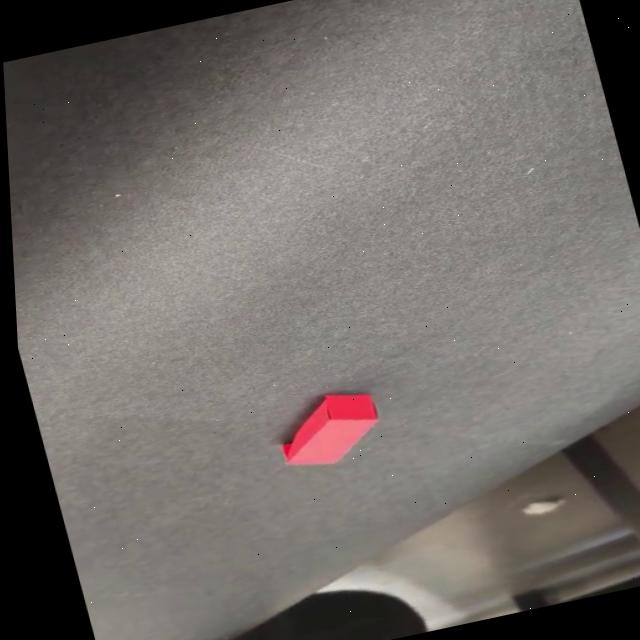red block: (268, 384, 389, 474)
